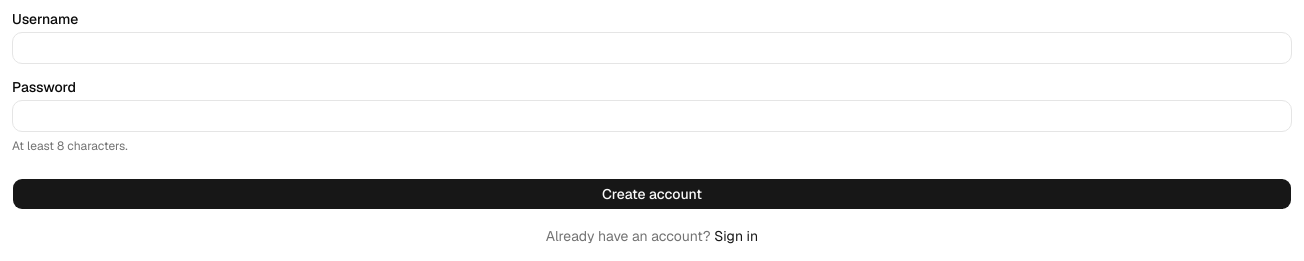
Scenario: RegisterForm › accessibility › shows pending state in button text
Type "testuser" into the field labelled "Username". click: (652, 48)
box: [12, 32, 1292, 64]
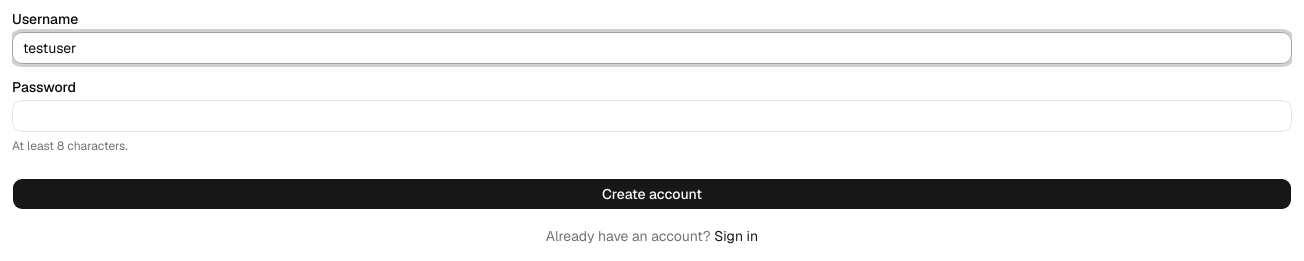
Type "password123" into the password field labelled "Password". click: (652, 116)
box: [12, 100, 1292, 132]
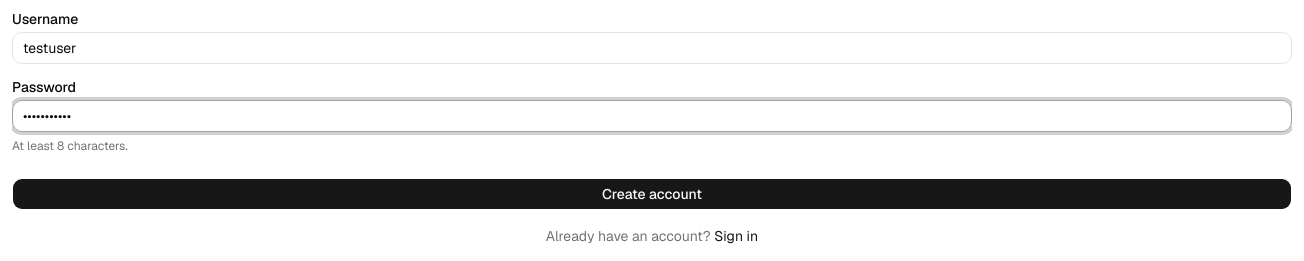
Click the button. click: click(652, 194)
box: [12, 178, 1292, 210]
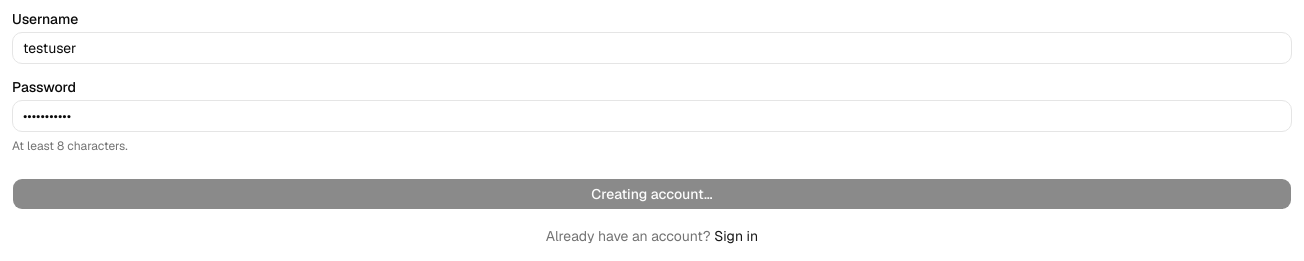
Expected: the button reads "Creating account…", [12, 178, 1292, 210]
